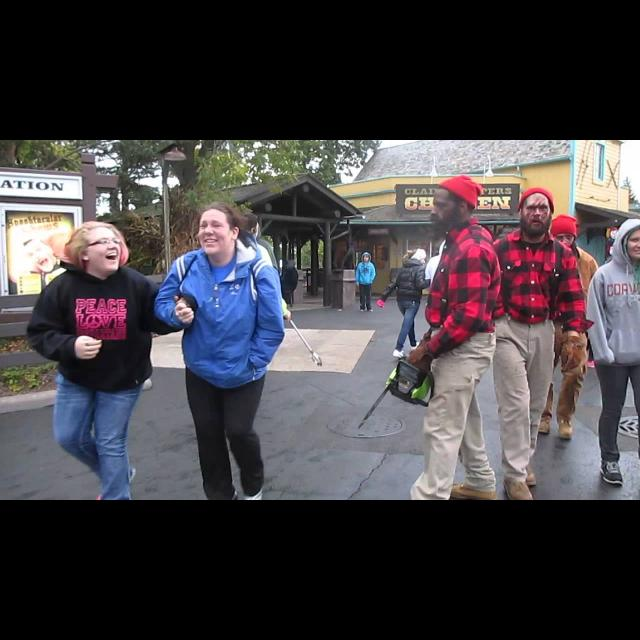head: (71, 223, 123, 273), (429, 182, 478, 230), (199, 204, 241, 256), (518, 191, 552, 235), (551, 218, 575, 252), (236, 212, 260, 240), (412, 251, 428, 267), (441, 240, 451, 256), (363, 253, 371, 263)
person: (516, 214, 604, 444), (210, 211, 294, 395), (376, 248, 438, 360), (424, 236, 472, 360), (355, 251, 377, 313)
